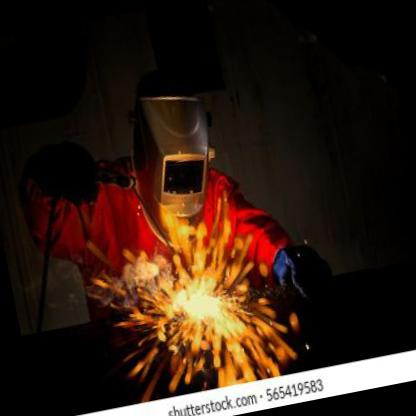Gloves: (264, 235, 336, 303)
